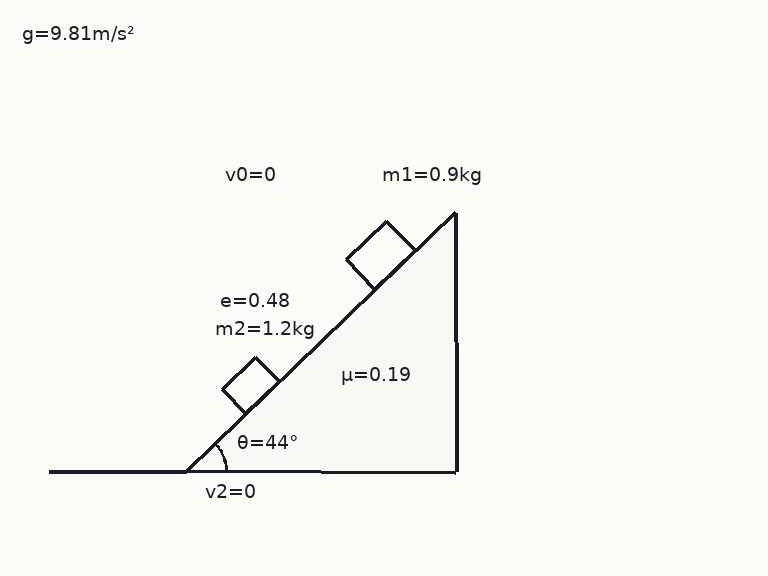block: (344, 219, 416, 291), (220, 355, 281, 416)
ramp: (184, 210, 456, 473)
